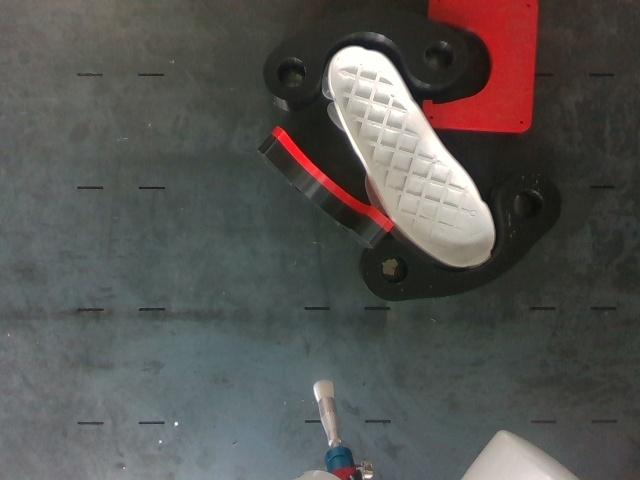shoes: (330, 47, 494, 267)
